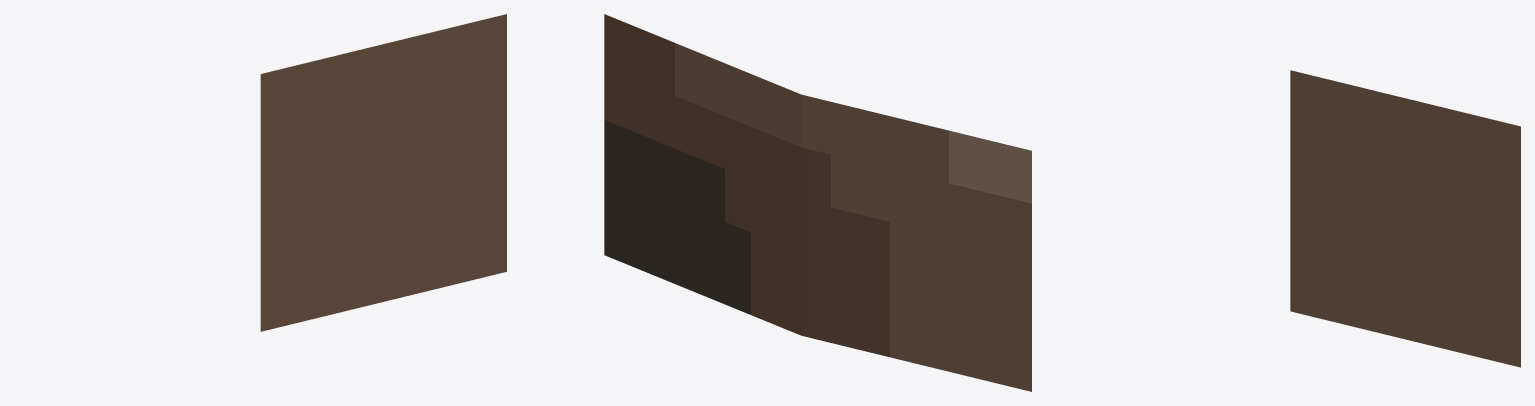
3 renders of one model, left to right at view 1: azimuth 30°, elevation 25°; view 2: azimuth 150°, elevation 25°; view 3: azimuth 330°, elevation 25°, orthographic. The views are drawn at different scales.
Size of the model in its own units: 1 by 0.5 by 0.125.
Materials: 1 (1 with a texture image).
